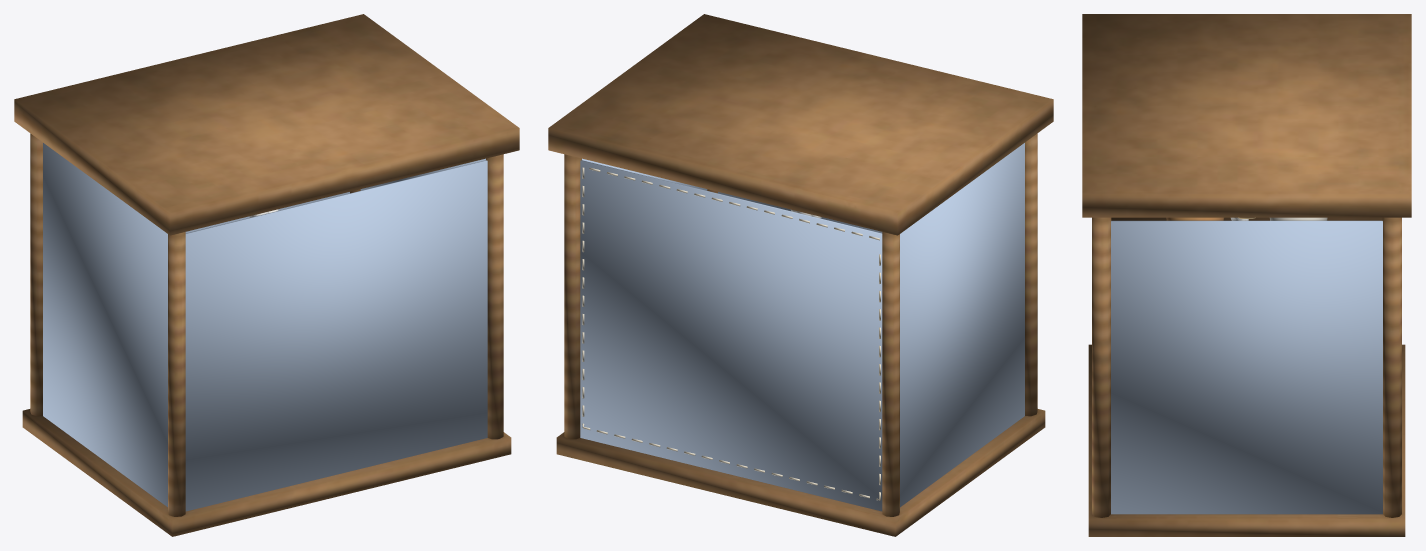
File: bun_case.glb
3 renders of one model, left to right at view 1: azimuth 30°, elevation 25°; view 2: azimuth 150°, elevation 25°; view 3: azimuth 270°, elevation 25°, orthographic. The views are drawn at different scales.
Parts seen in each view (by area): view 1: bun_case_glass, bun_case_wood; view 2: bun_case_glass, bun_case_wood, bun_case_thread; view 3: bun_case_wood, bun_case_glass.
Boxes of the visible parts, x1=… form: bun_case_glass: x1=43, y1=143, x2=487, y2=511; bun_case_wood: x1=14, y1=14, x2=519, y2=536; bun_case_glass: x1=580, y1=143, x2=1024, y2=511; bun_case_wood: x1=548, y1=14, x2=1053, y2=536; bun_case_thread: x1=582, y1=167, x2=880, y2=500; bun_case_wood: x1=1082, y1=14, x2=1411, y2=536; bun_case_glass: x1=1111, y1=220, x2=1382, y2=514.
Size of the model in its own units: 0.99 by 0.885 by 0.765.
7 materials, 3 textured.
